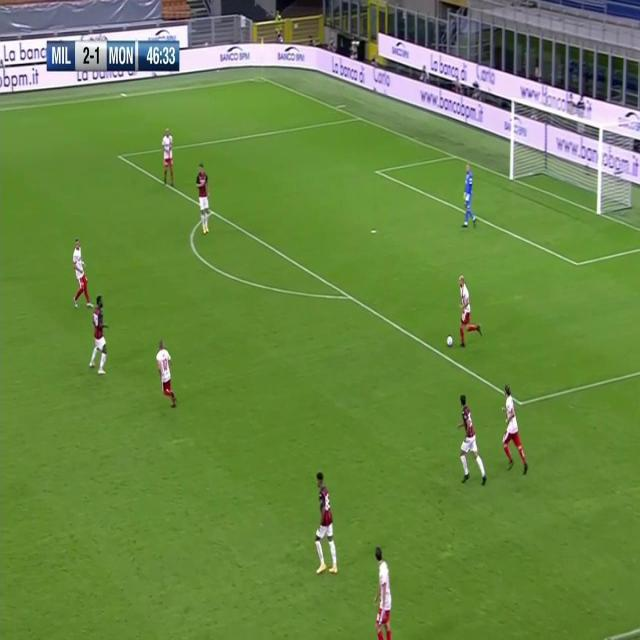ball: (446, 332, 454, 348)
goalkeeper: (460, 161, 478, 227)
player: (456, 392, 488, 487), (313, 474, 339, 580), (501, 382, 529, 476), (372, 545, 394, 640), (457, 273, 481, 349), (88, 295, 110, 377), (155, 337, 179, 410), (71, 237, 93, 310), (196, 160, 213, 237), (160, 126, 177, 190)
